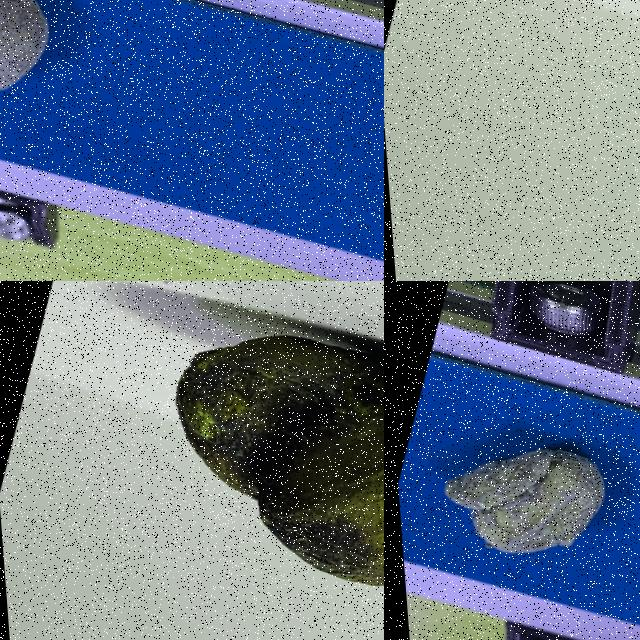Agglomerated_cocoabeans: (0, 281, 383, 639), (386, 363, 639, 624), (443, 0, 639, 266)
Fine_cocoabeans: (0, 0, 134, 165)
